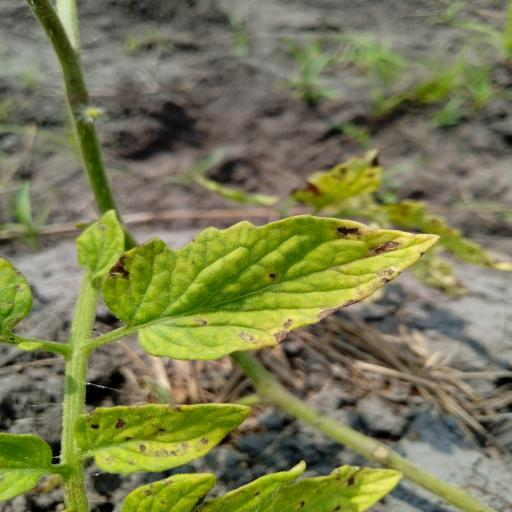Tomato_Brown_Spots: (96, 209, 442, 365), (66, 398, 257, 478), (194, 464, 417, 512)
